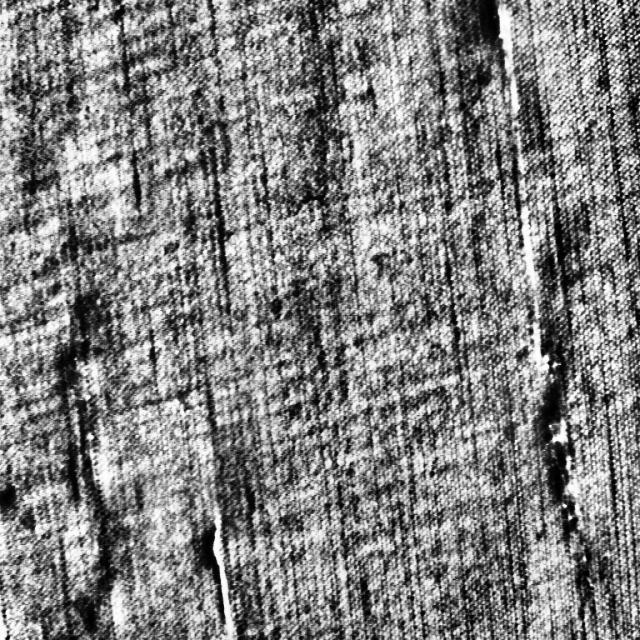gray stitch: (41, 215, 127, 639), (479, 0, 545, 361), (535, 353, 604, 639), (196, 504, 241, 639)
